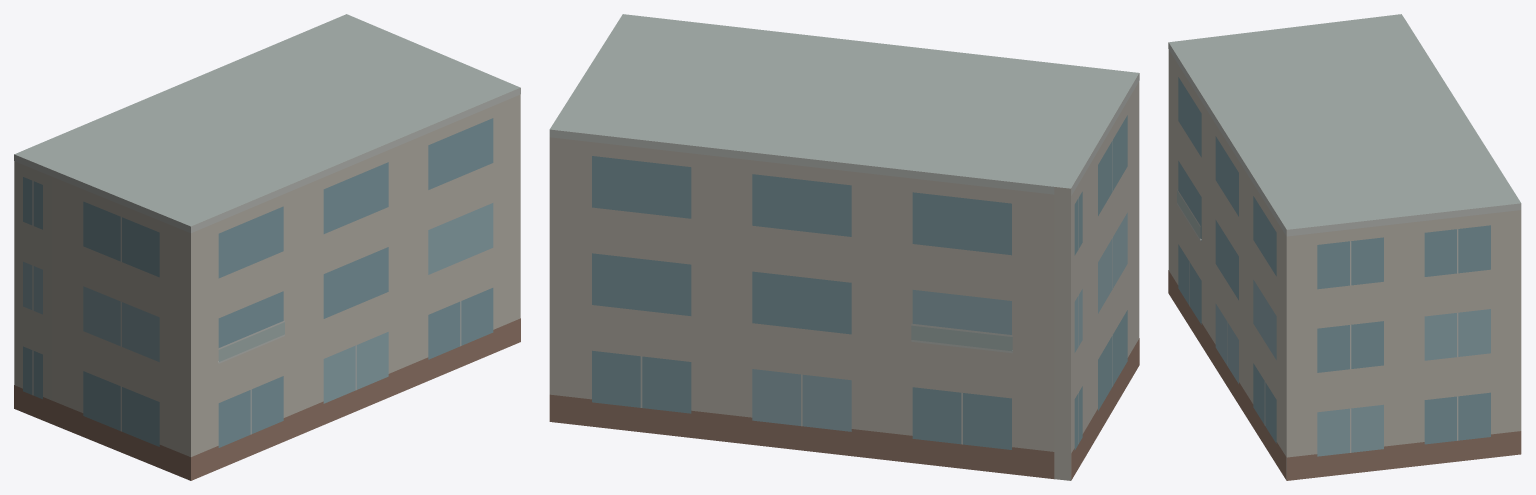
The model's file is survey-upis-32934535.glb.
3 renders of one model, left to right at view 1: azimuth 30°, elevation 25°; view 2: azimuth 150°, elevation 25°; view 3: azimuth 270°, elevation 25°, orthographic. The views are drawn at different scales.
Parts seen in each view (by area): view 1: survey-upis-32934535.tmp; view 2: survey-upis-32934535.tmp; view 3: survey-upis-32934535.tmp.
Part boxes in pixels (left/top/right/bottom): survey-upis-32934535.tmp: left=14, top=14, right=520, bottom=480; survey-upis-32934535.tmp: left=549, top=14, right=1139, bottom=480; survey-upis-32934535.tmp: left=1168, top=14, right=1521, bottom=480.
Size of the model in its own units: 16.88 by 9.15 by 11.67.
